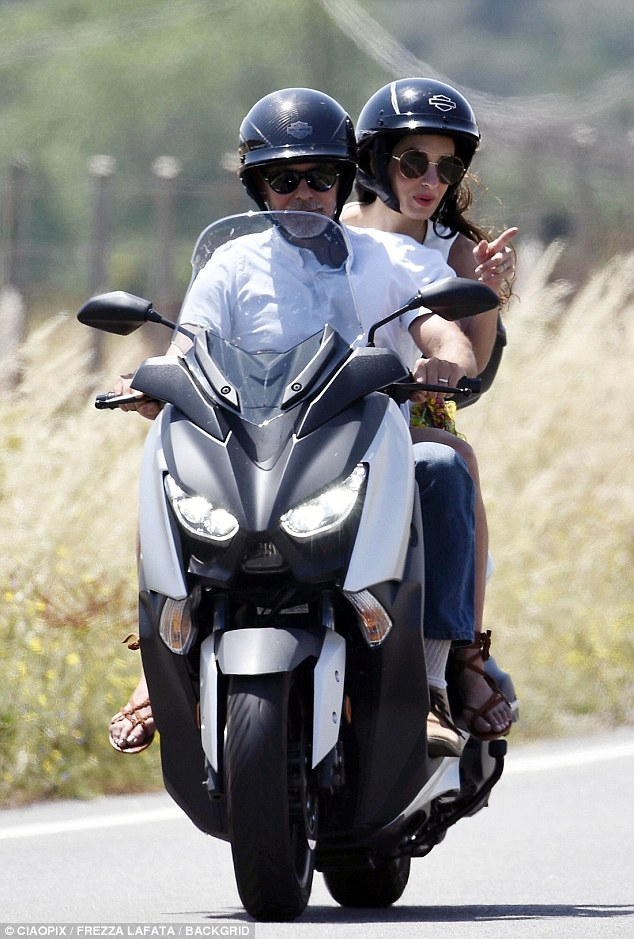motorcycle: (67, 276, 506, 935)
